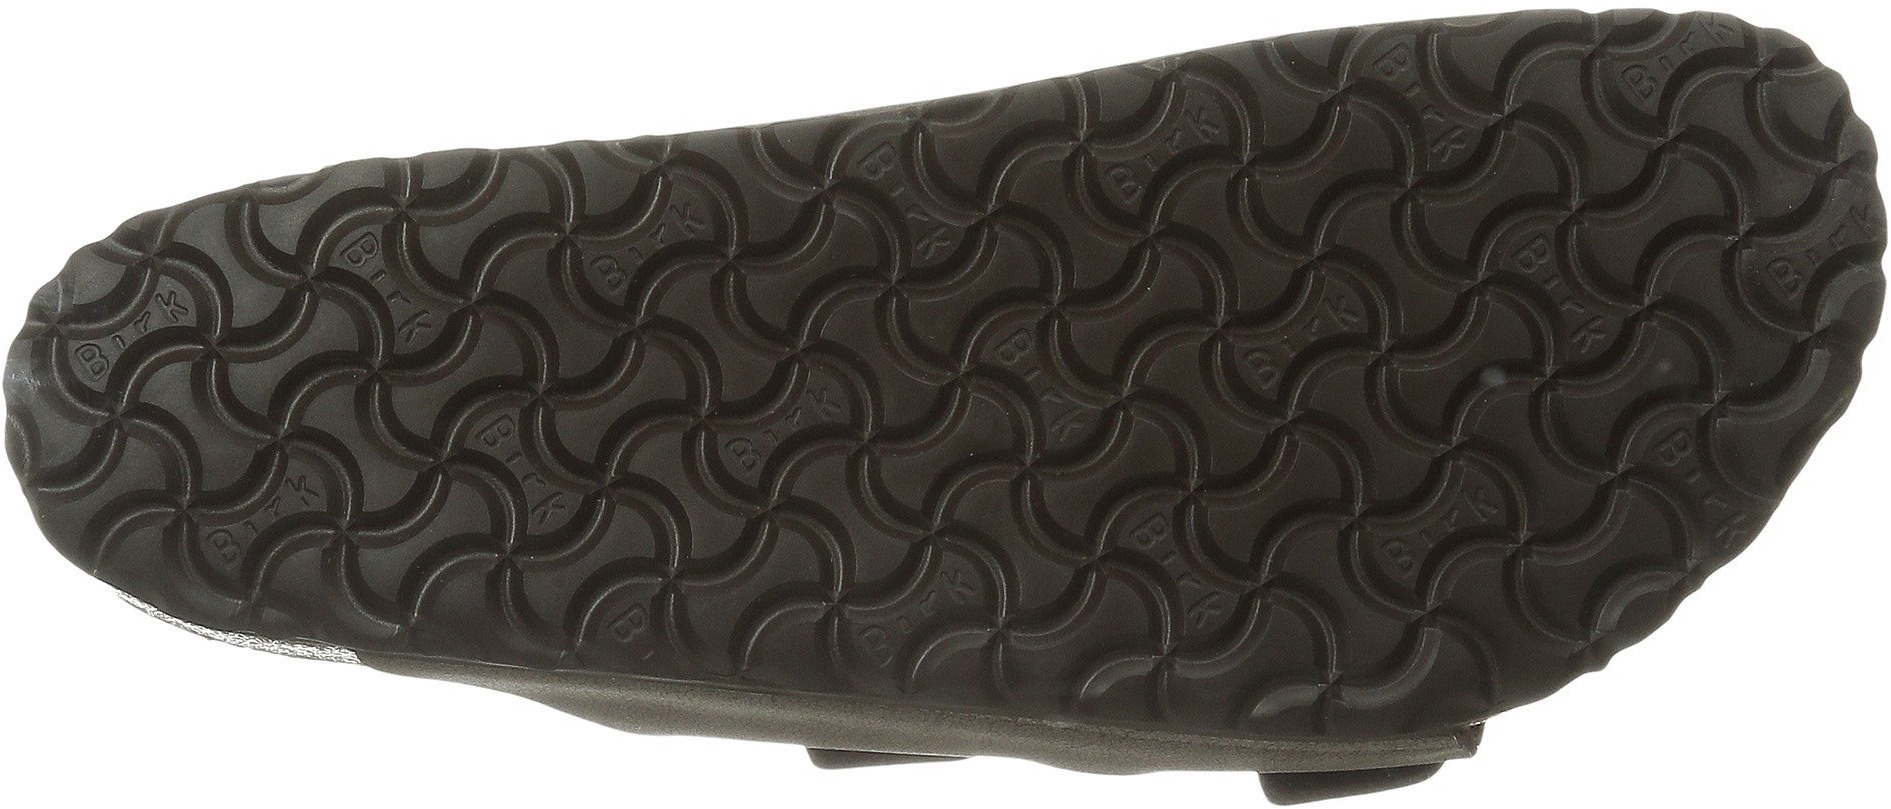bowtie: (320, 163, 756, 633), (1327, 42, 1645, 365), (1041, 93, 1321, 412), (765, 422, 1060, 694), (763, 136, 1034, 416), (1362, 371, 1652, 622), (1069, 415, 1358, 664), (62, 279, 317, 561), (1653, 65, 1857, 292)
text: (320, 163, 756, 633), (1327, 42, 1645, 365), (1041, 93, 1321, 412), (765, 422, 1060, 694), (763, 136, 1034, 416), (1362, 371, 1652, 622), (1069, 415, 1358, 664), (62, 279, 317, 561)
